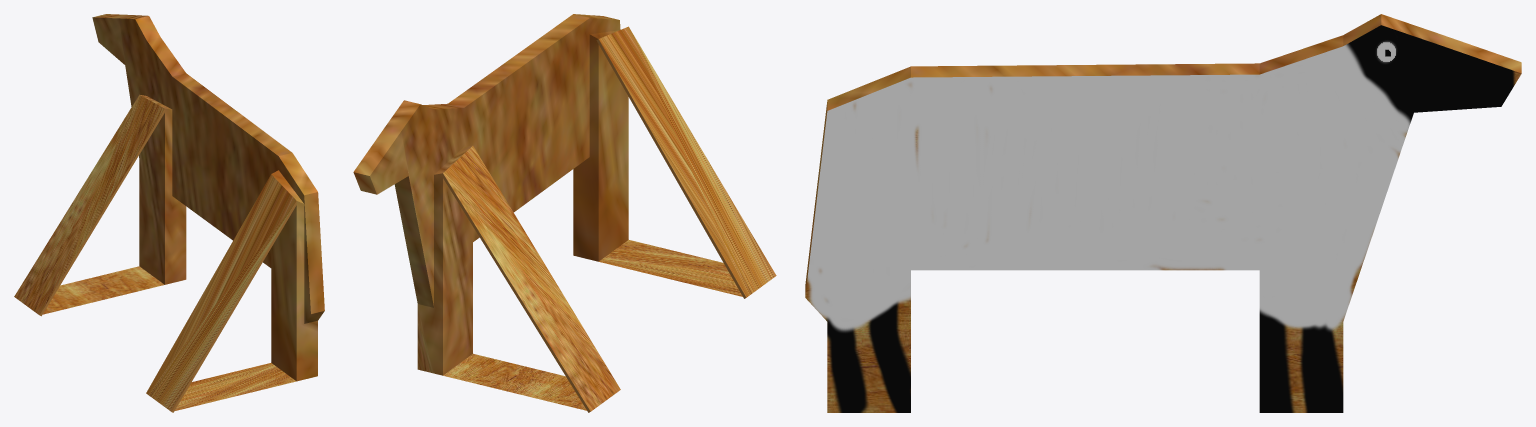
Rendered from Sheep.fbx.
3 views of the same model, side by side, from view 1: azimuth 30°, elevation 25°; view 2: azimuth 150°, elevation 25°; view 3: azimuth 270°, elevation 25° (orthographic). The views are drawn at different scales.
Visible parts, largest first — view 1: FakeCow.001; view 2: FakeCow.001; view 3: FakeCow.001.
Boxes of the visible parts, box(x1,y1,x2,y2) form: FakeCow.001: box(14, 14, 324, 412); FakeCow.001: box(353, 14, 776, 412); FakeCow.001: box(805, 14, 1521, 412).
Size of the model in its own units: 177 by 68.39 by 106.
